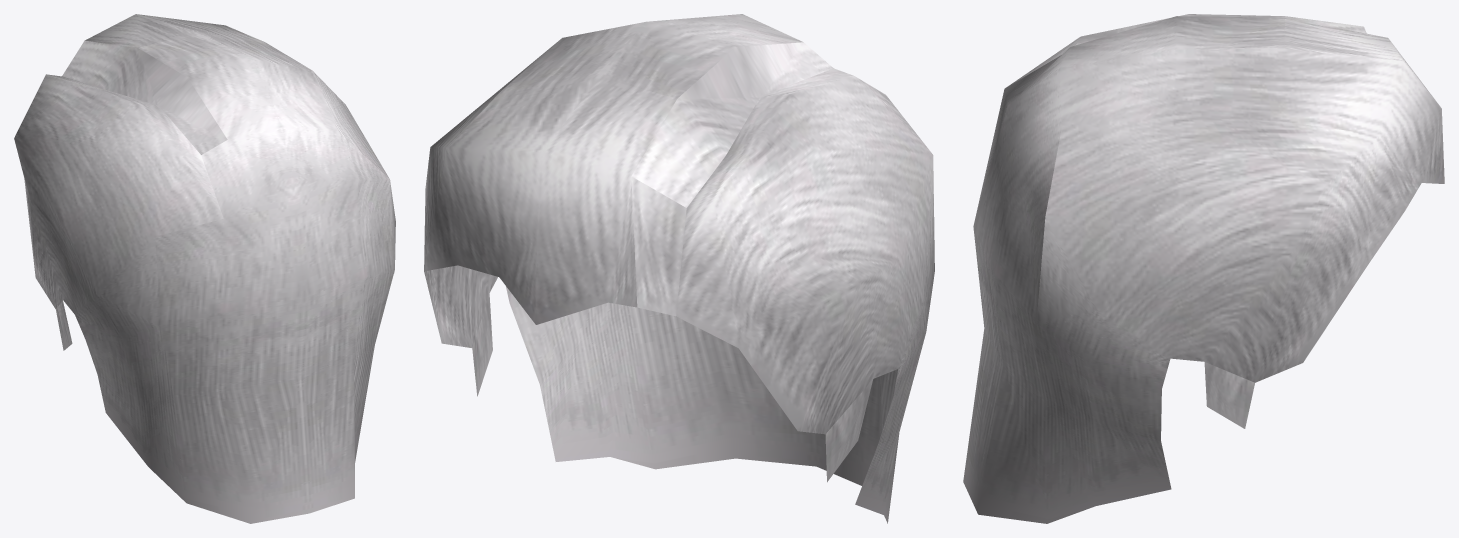
File: Martial arts male hair 50.glb
The picture shows the model from 3 angles, left to right: view 1: azimuth 30°, elevation 25°; view 2: azimuth 150°, elevation 25°; view 3: azimuth 270°, elevation 25°; orthographic projection. The views are drawn at different scales.
Visible parts, largest first — view 1: 头发02_0; view 2: 头发02_0; view 3: 头发02_0.
Part boxes in pixels (<box>): 头发02_0: <box>14,14,395,523</box>; 头发02_0: <box>424,14,934,523</box>; 头发02_0: <box>963,14,1444,523</box>.
Size of the model in its own units: 0.1668 by 0.2046 by 0.1971.
Materials: 1 (1 with a texture image).
